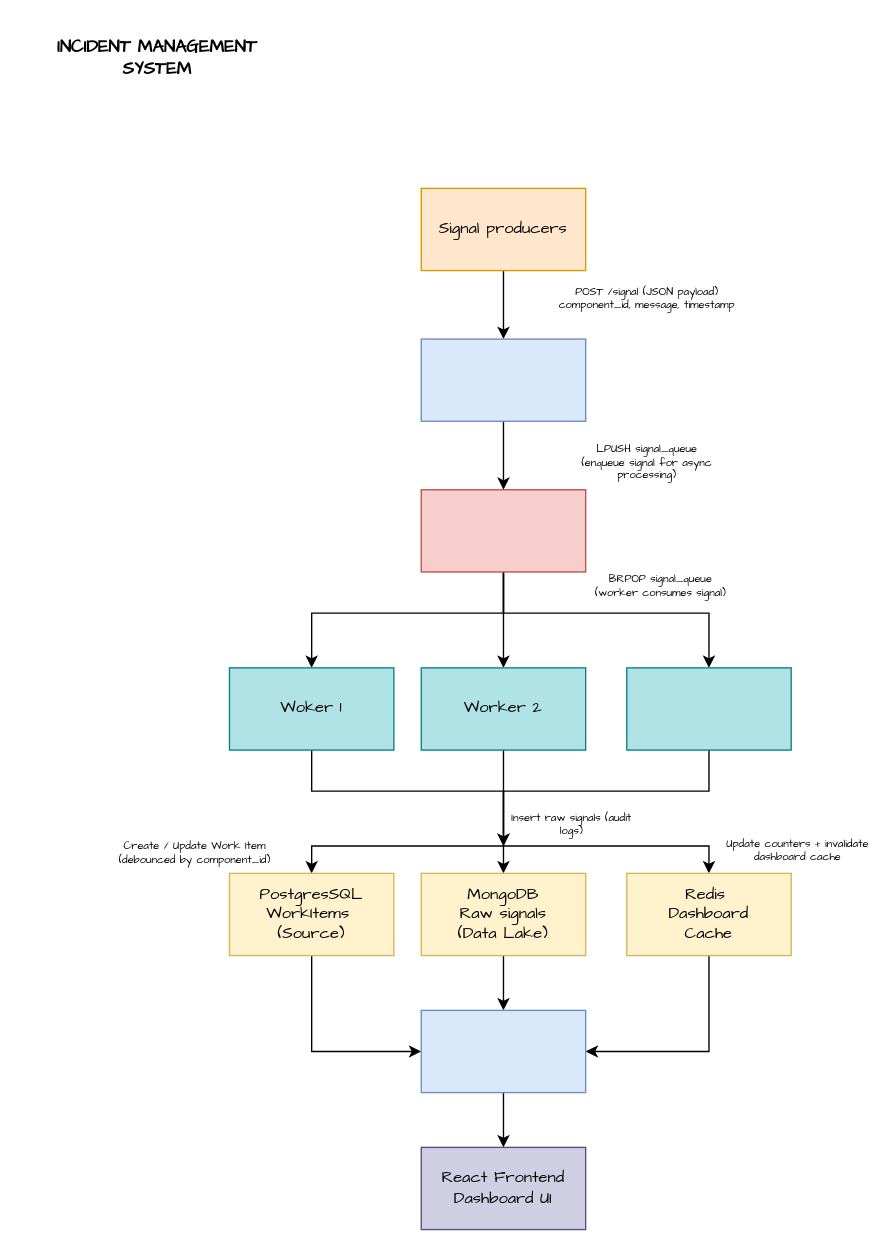
This 896x1254 diagram has some shape labels left out. Here are the shapes that lost their labels. From the top down, the centre of each, then its label:
At point (503, 379): "Backend API".
At point (503, 530): "Redis queue".
At point (708, 708): "Worker 3".
At point (503, 1051): "Backend API (/incidents, etc.)".
